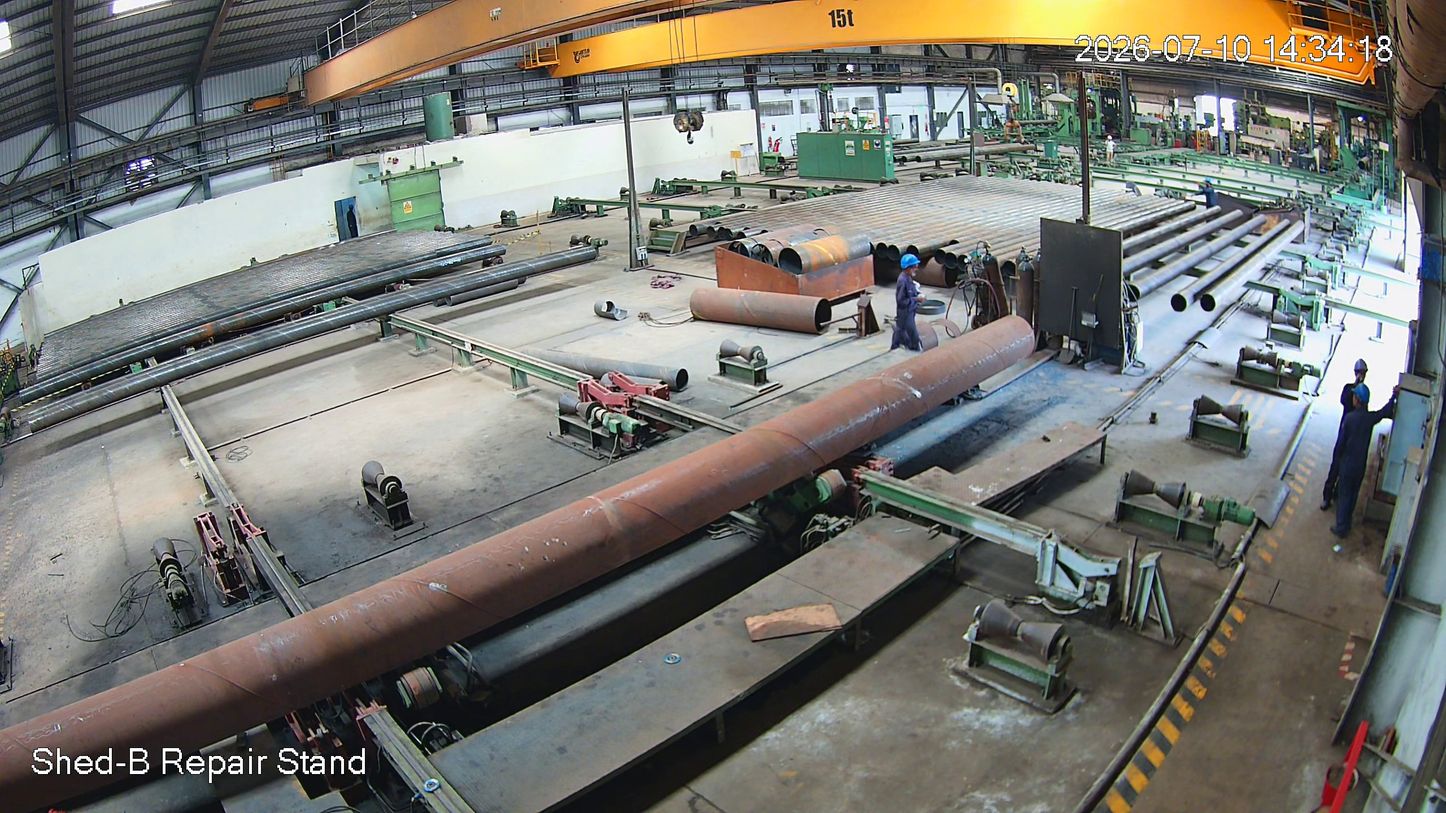Helmet: (1347, 368, 1383, 419), (898, 248, 927, 284)
Person: (1334, 372, 1392, 548), (893, 252, 936, 350)
